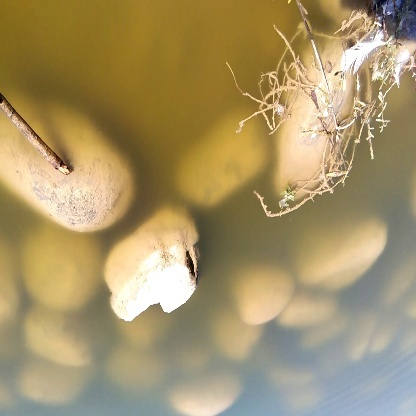branch: (1, 93, 74, 178)
